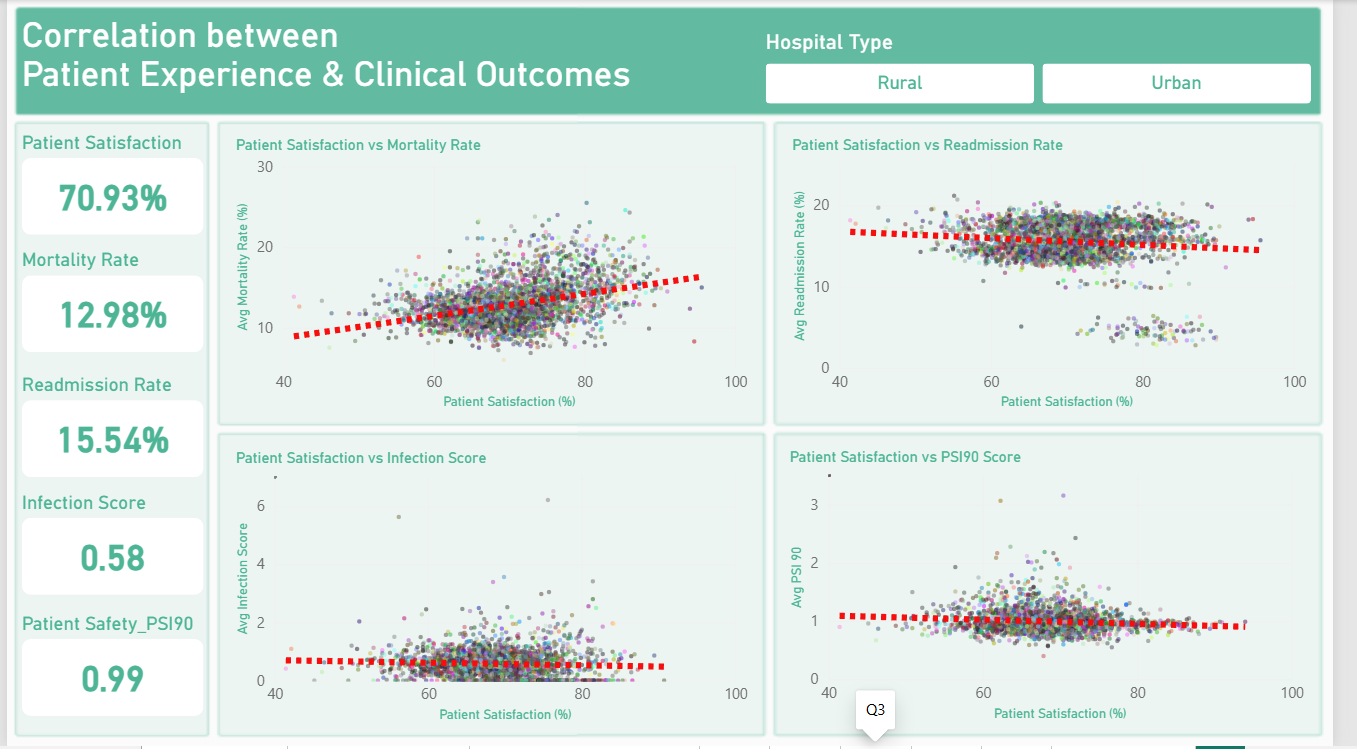

The page's visual inventory and layout, read from the dashboard file:
{"tool":"powerbi","page":{"name":"Q3","canvas":[1280,720],"ordinal":5},"visuals":[{"type":"cardVisual","title":"Patient Satisfaction","fields":{"Data":["vw_hospital_performance_wide_20.avg_top_box_percent (%)"]},"box":[14.1,126.9,175.6,100],"z":0},{"type":"cardVisual","title":"Mortality Rate","fields":{"Data":["vw_hospital_performance_wide_20.avg_mortality_rate (%)"]},"box":[14.1,239.7,175.6,100],"z":1000},{"type":"cardVisual","title":"Readmission Rate","fields":{"Data":["vw_hospital_performance_wide_20.avg_readmission_rate (%)"]},"box":[14.1,360.3,175.6,100],"z":2000},{"type":"cardVisual","title":"Infection Score","fields":{"Data":["Avg(vw_hospital_performance_wide_20.avg_infection_score)"]},"box":[14.1,474.4,175.6,100],"z":3000},{"type":"cardVisual","title":"Patient Safety_PSI90","fields":{"Data":["Avg(vw_hospital_performance_wide_20.psi90_composite_sir)"]},"box":[14.1,591,175.6,100],"z":4000},{"type":"advancedSlicerVisual","title":"Hospital Type","fields":{"Values":["vw_hospital_performance_Long_version.rural_flag"]},"box":[732,27.4,526.3,72.6],"z":5000},{"type":"textbox","box":[14.1,14.1,626.3,87.7],"z":6000},{"type":"scatterChart","title":"Patient Satisfaction vs Mortality Rate","fields":{"X":["vw_hospital_performance_wide_20.avg_top_box_percent"],"Y":["vw_hospital_performance_wide_20.avg_mortality_rate"],"Series":["vw_hospital_performance_wide_20.facility_id_clean"]},"box":[205.1,116.7,525.6,293.6],"z":7000},{"type":"scatterChart","title":"Patient Satisfaction vs Readmission Rate","fields":{"X":["vw_hospital_performance_wide_20.avg_top_box_percent"],"Y":["vw_hospital_performance_wide_20.avg_readmission_rate"],"Series":["vw_hospital_performance_wide_20.facility_id_clean"]},"box":[742.3,116.7,528.2,293.6],"z":8000},{"type":"scatterChart","title":"Patient Satisfaction vs Infection Score","fields":{"X":["vw_hospital_performance_wide_20.avg_top_box_percent"],"Y":["Avg(vw_hospital_performance_wide_20.avg_infection_score)"],"Series":["vw_hospital_performance_wide_20.facility_id_clean"]},"box":[204.9,418.2,525.9,293.6],"z":9000},{"type":"scatterChart","title":"Patient Satisfaction vs PSI90 Score","fields":{"X":["vw_hospital_performance_wide_20.avg_top_box_percent"],"Y":["vw_hospital_performance_wide_20.psi90_composite_sir"],"Series":["vw_hospital_performance_wide_20.facility_id_clean"]},"box":[739.7,417.9,528.2,293.6],"z":10000}]}

Visuals, with their boxes in screenshot pixels (x1, y1, x2, y2), scaled from the page's 1280x720 canvas onto the 1357x749 screenshot:
"Patient Satisfaction" cardVisual: 15:132:201:236
"Mortality Rate" cardVisual: 15:249:201:353
"Readmission Rate" cardVisual: 15:375:201:479
"Infection Score" cardVisual: 15:494:201:598
"Patient Safety_PSI90" cardVisual: 15:615:201:719
"Hospital Type" advancedSlicerVisual: 776:29:1334:104
textbox: 15:15:679:106
"Patient Satisfaction vs Mortality Rate" scatterChart: 217:121:775:427
"Patient Satisfaction vs Readmission Rate" scatterChart: 787:121:1347:427
"Patient Satisfaction vs Infection Score" scatterChart: 217:435:775:740
"Patient Satisfaction vs PSI90 Score" scatterChart: 784:435:1344:740
